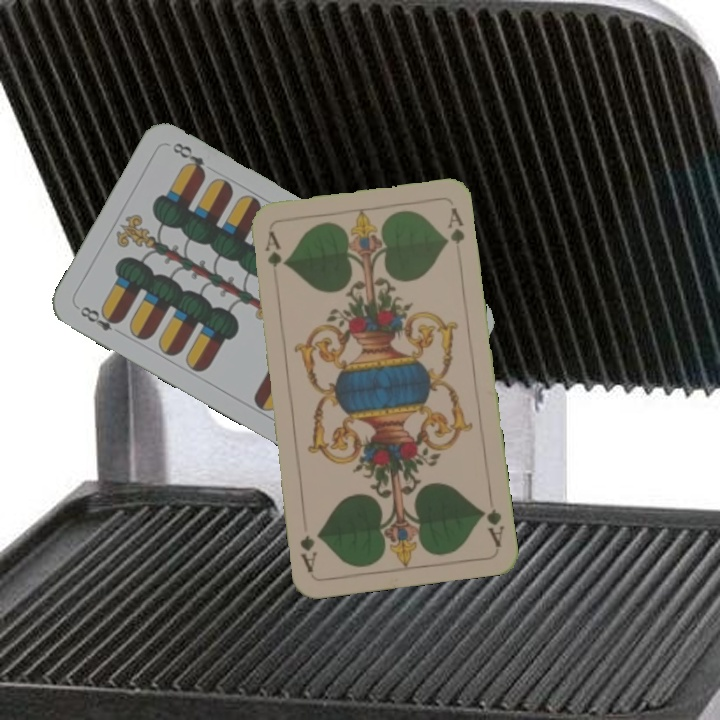E8: (76, 302, 124, 334)
GA: (261, 226, 284, 286), (477, 504, 507, 549)
